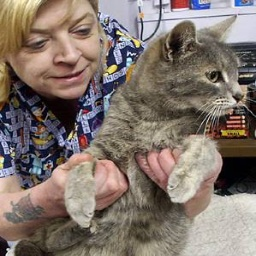cat: (29, 14, 243, 254)
